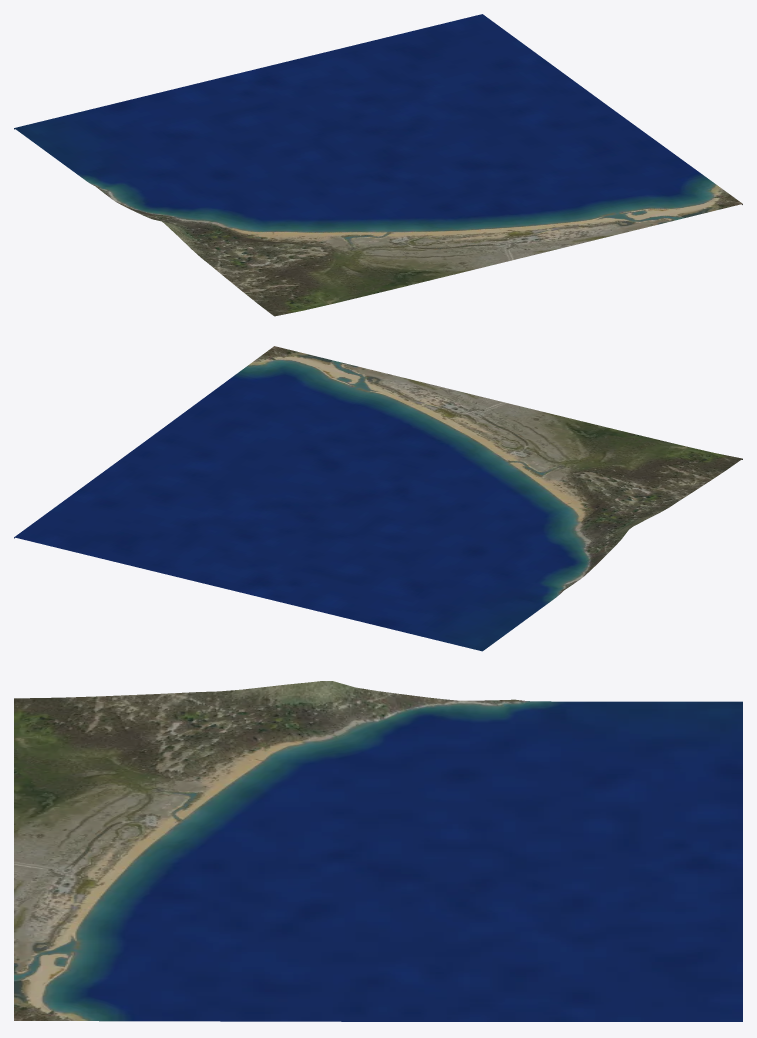
The picture shows the model from 3 angles, top to bottom: view 1: azimuth 30°, elevation 25°; view 2: azimuth 150°, elevation 25°; view 3: azimuth 270°, elevation 25°; orthographic projection. The views are drawn at different scales.
Size of the model in its own units: 2000 by 66.72 by 1925.
Materials: 1 (1 with a texture image).
